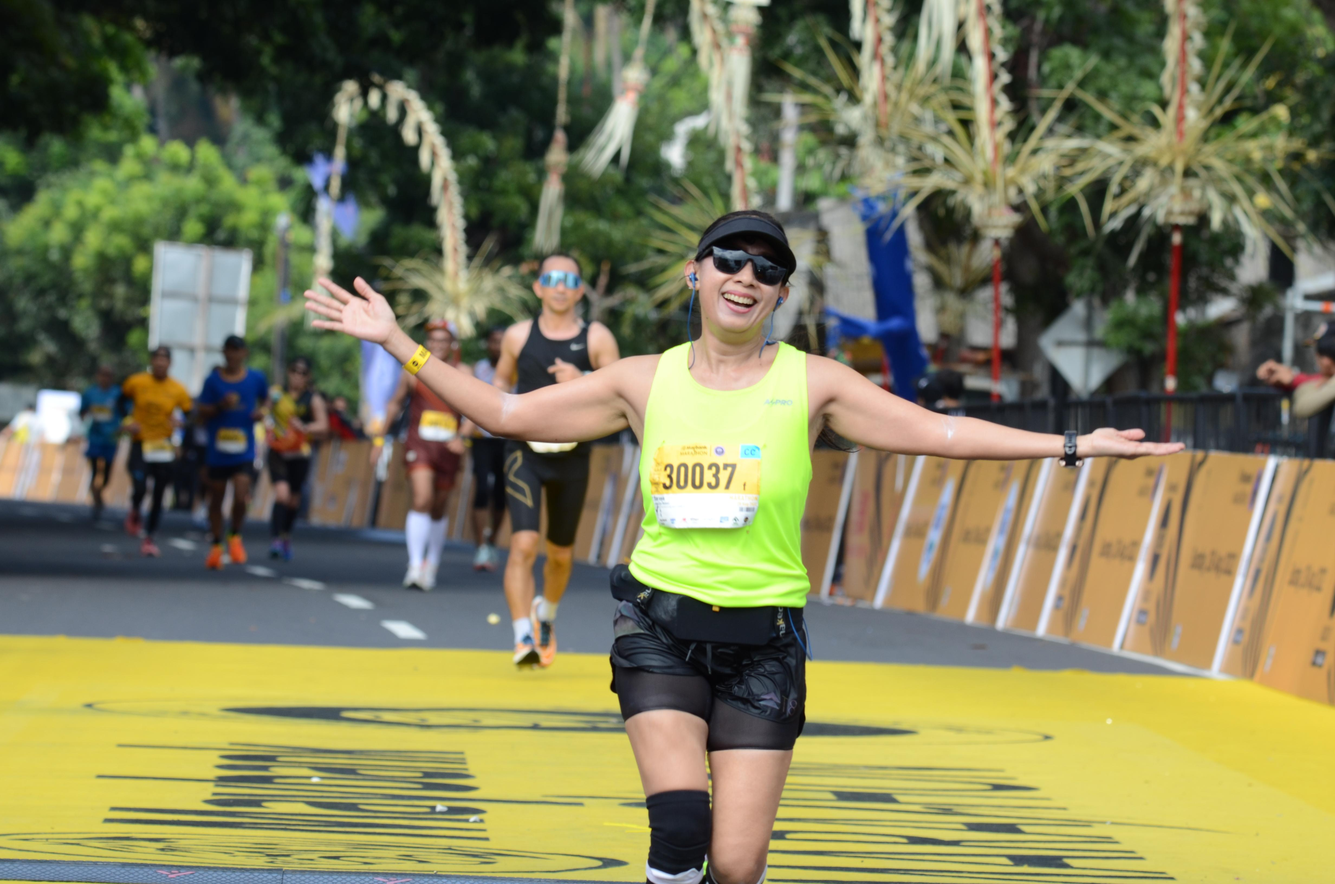bib: (649, 440, 761, 528), (420, 411, 459, 443), (216, 431, 249, 453), (142, 440, 175, 462)
